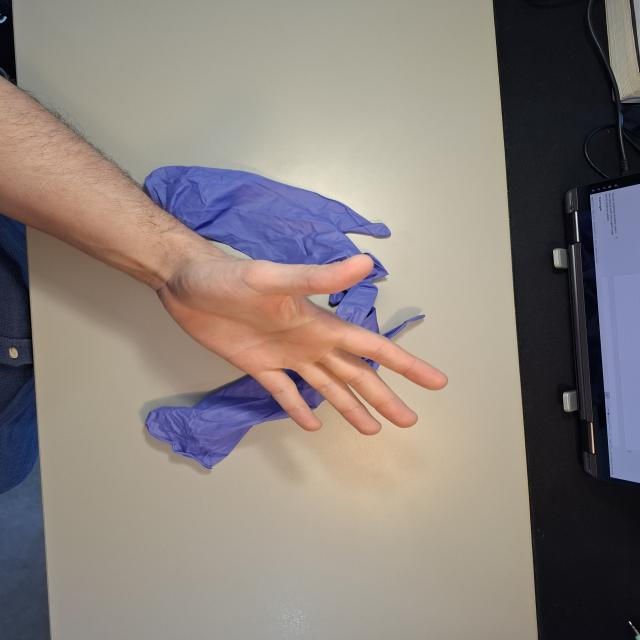glove_off: (145, 251, 452, 438)
